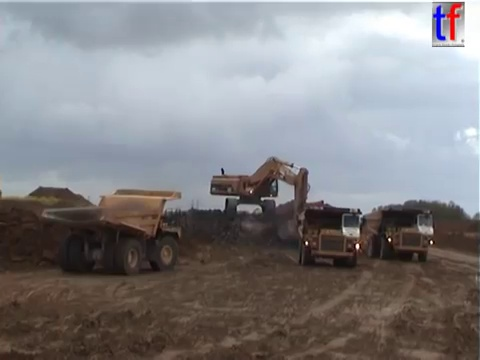excavator: (208, 155, 314, 243), (263, 197, 327, 227)
truck: (39, 187, 183, 276), (294, 203, 364, 269), (358, 205, 435, 264)
